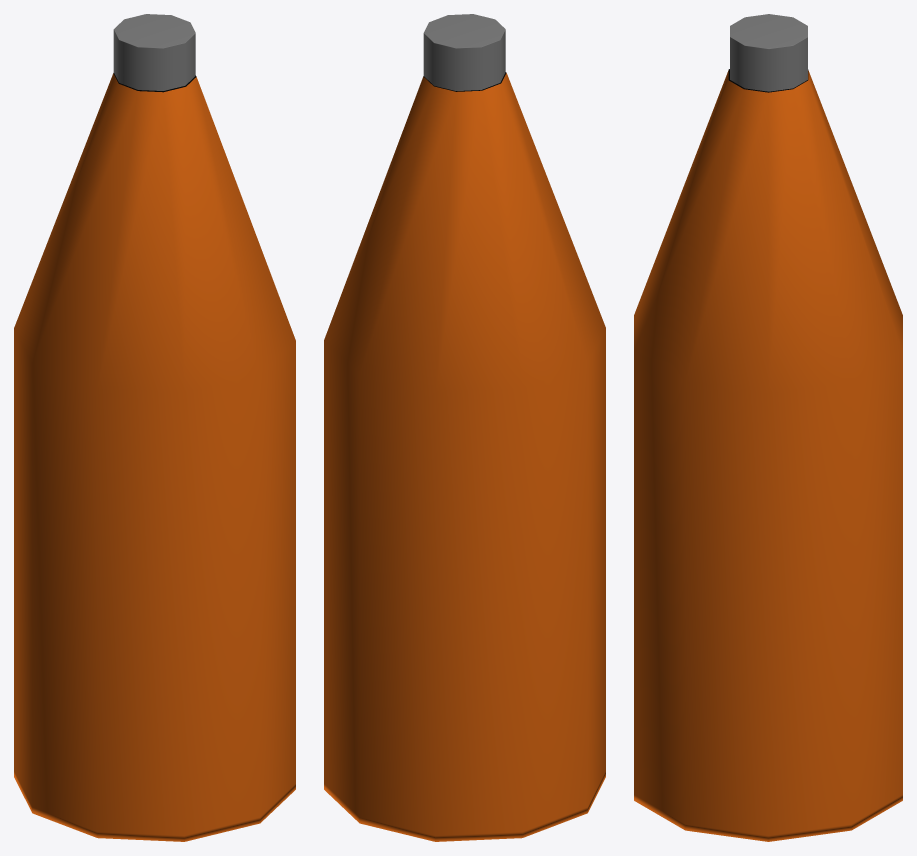
File: Hotdog Orange.fbx
The picture shows the model from 3 angles, left to right: view 1: azimuth 30°, elevation 25°; view 2: azimuth 150°, elevation 25°; view 3: azimuth 270°, elevation 25°; orthographic projection.
Visible parts, largest first — view 1: pasted__polySurface304; view 2: pasted__polySurface304; view 3: pasted__polySurface304.
Boxes of the visible parts, box(x1,y1,x2,y2) form: pasted__polySurface304: box(14, 14, 295, 841); pasted__polySurface304: box(324, 14, 605, 841); pasted__polySurface304: box(634, 14, 902, 841).
Bounding box in the file's own units: 0.1157 × 0.3389 × 0.11.
